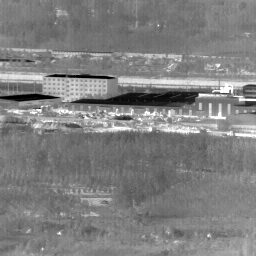aircraft: (86, 48, 88, 50)
